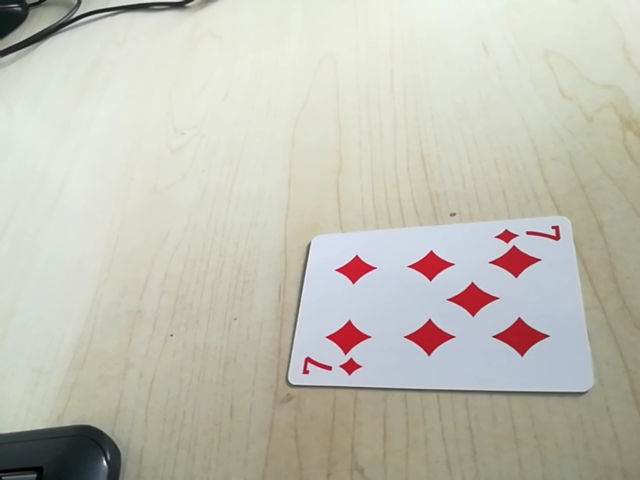fk 7: (491, 221, 566, 250), (295, 358, 365, 385)
